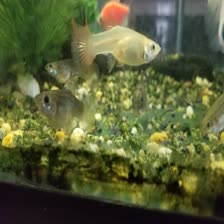Guppy: (67, 25, 164, 71), (25, 86, 105, 134)
Kiros: (119, 75, 165, 122)
Plano: (90, 0, 138, 27)
